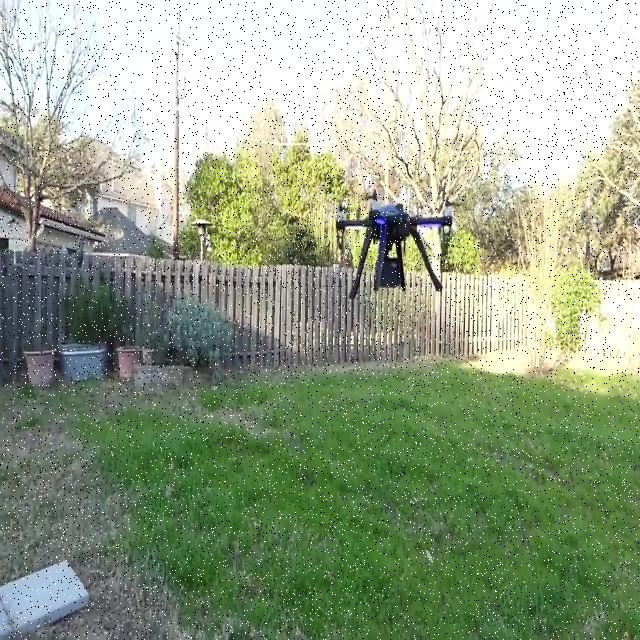UAV: (335, 189, 453, 299)
